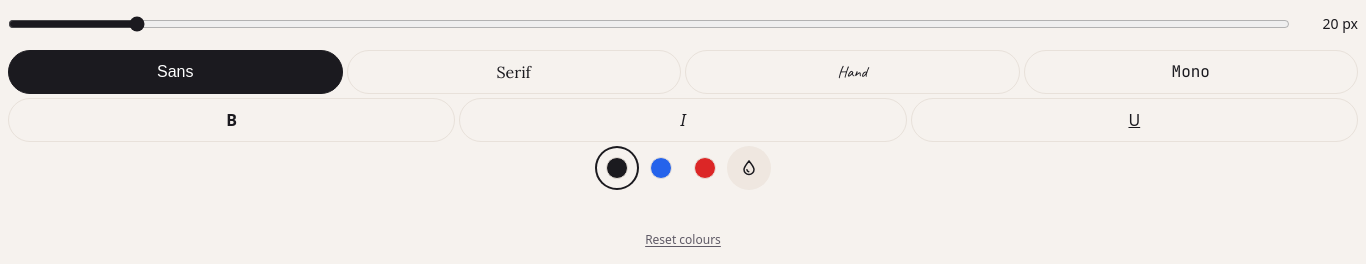
Scenario: ToolOptions text styles › choosing a font and toggles updates the text settings used for the next box
This screenshot has width=1366, height=264.
Later steps or results of the test are not shown.
Click the radio button labelled "Mono": coordinates (1191, 72) [1024, 50, 1358, 94]
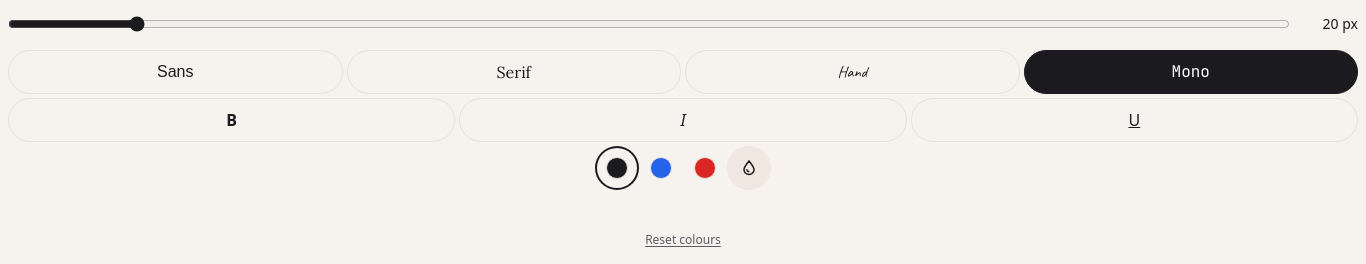
Click the button named "Italic": coordinates (683, 120) [459, 98, 907, 142]
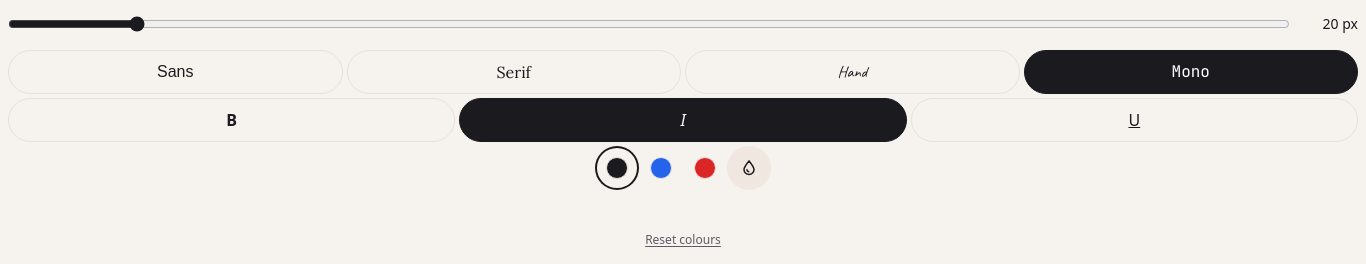
Result: the radio button labelled "Mono" is checked at [1024, 50, 1358, 94]
Result: the button named "Italic" is pressed at [459, 98, 907, 142]
